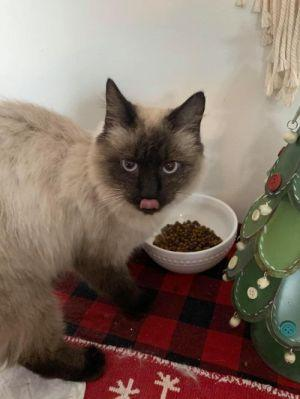siamese: (83, 65, 227, 227)
